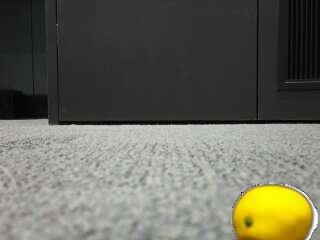lemon: (234, 186, 314, 240)
